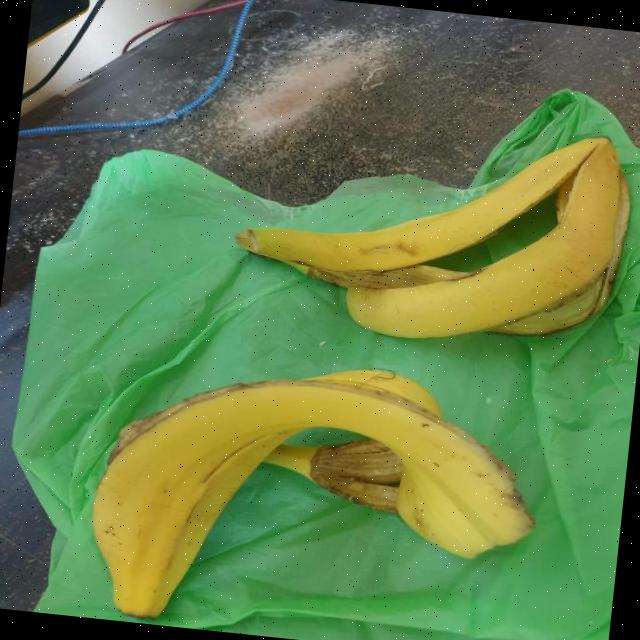banana-peel: (79, 339, 548, 640), (226, 97, 636, 361)
